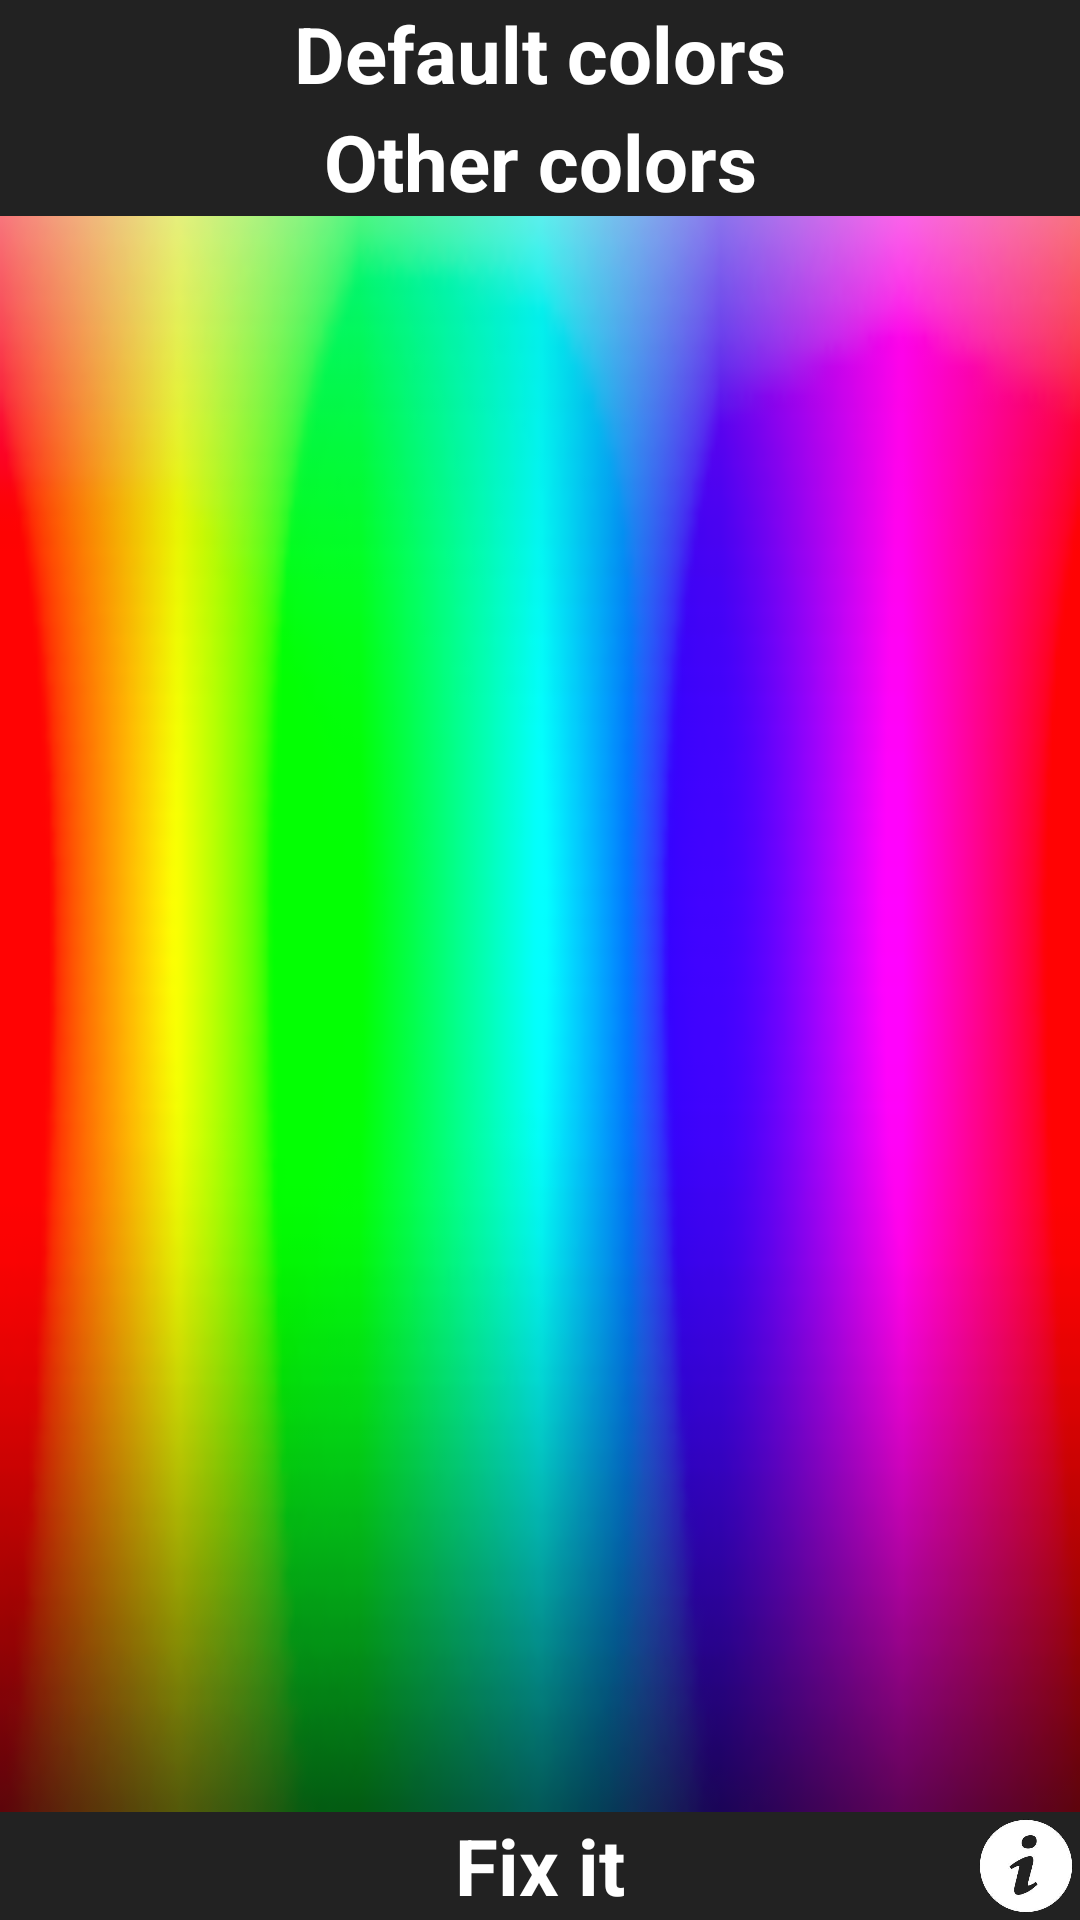

Point at icon controls on the screen. Image size 1080px×1920px, points as (x,y).
info: (1026,1866)
